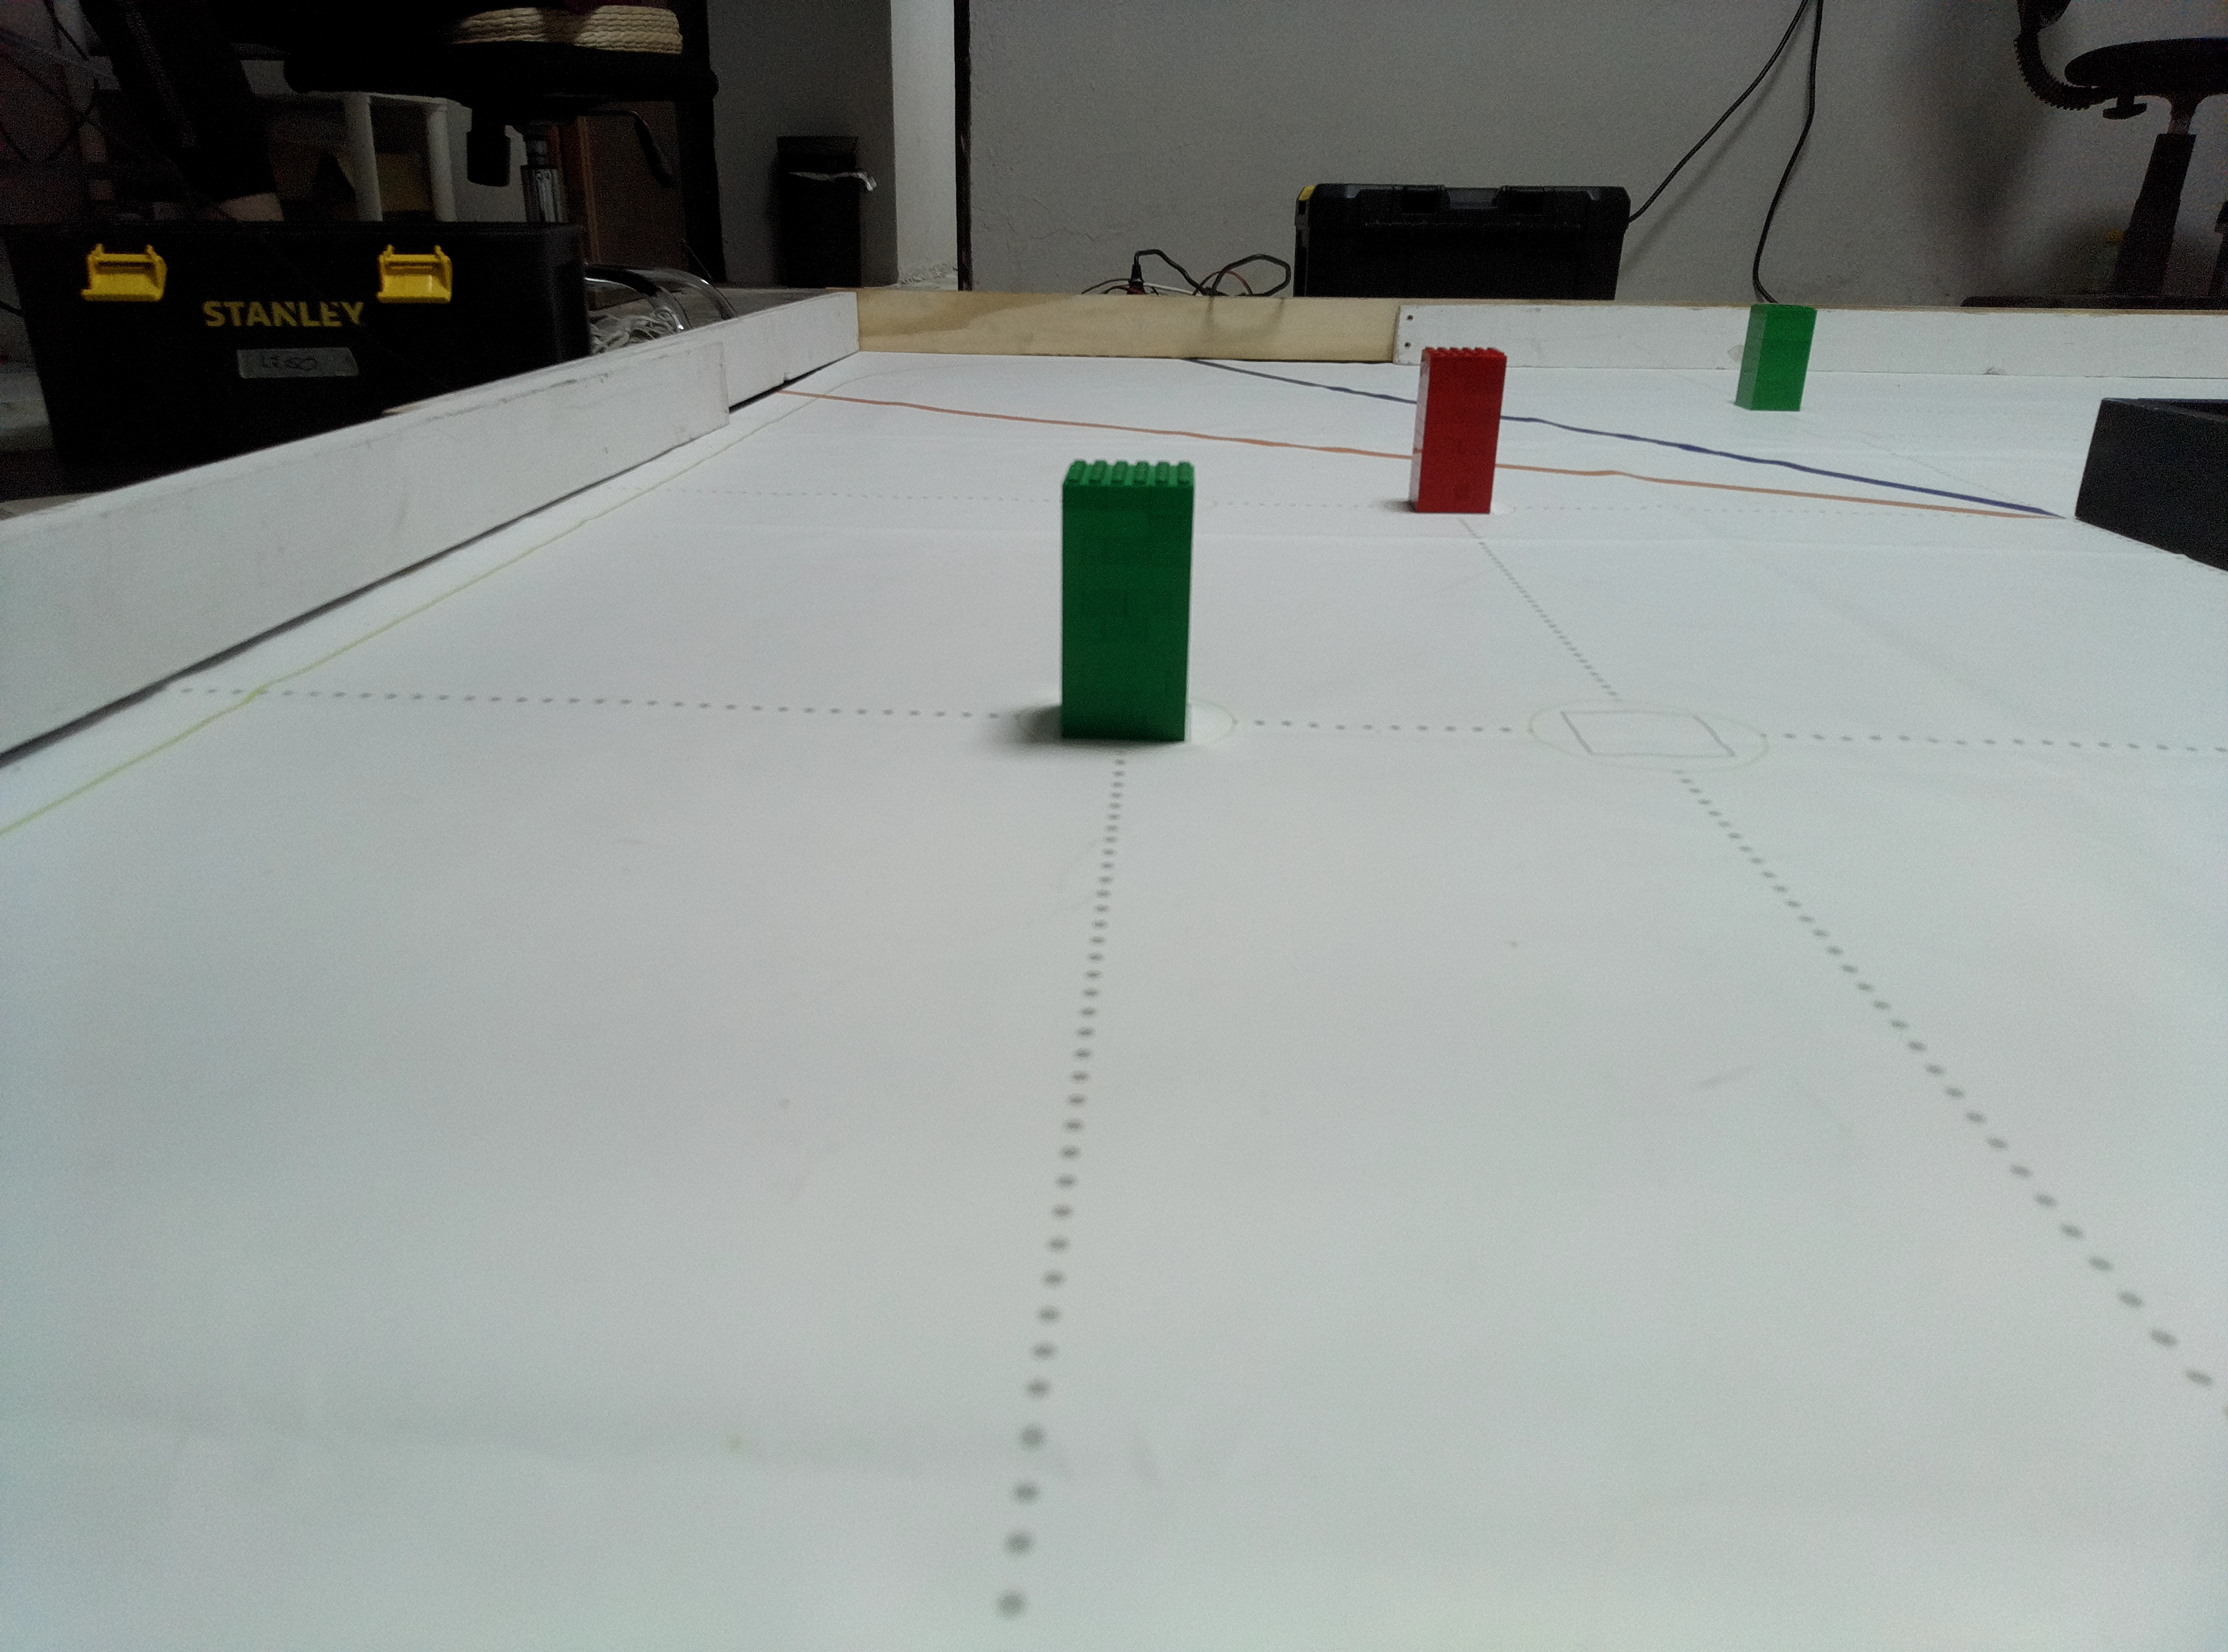greenbox: (1057, 455, 1199, 744), (1732, 304, 1818, 413)
redbox: (1409, 345, 1508, 514)
